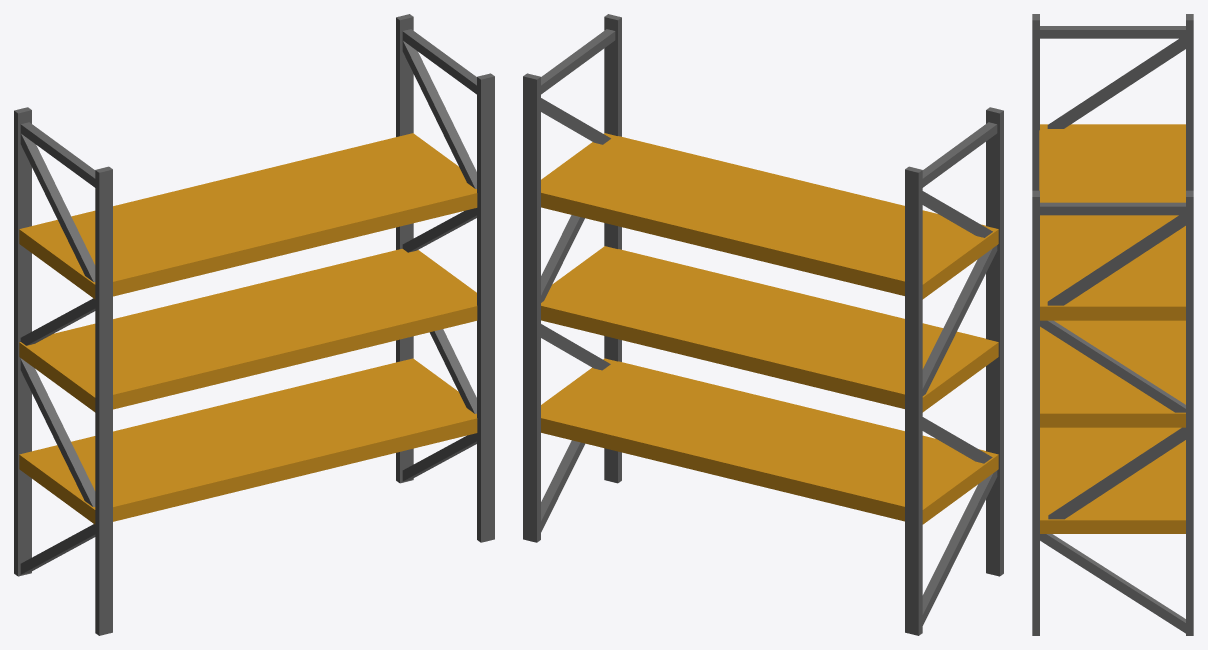
The model's file is StorageShelf_Medium.fbx.
The picture shows the model from 3 angles, left to right: view 1: azimuth 30°, elevation 25°; view 2: azimuth 150°, elevation 25°; view 3: azimuth 270°, elevation 25°; orthographic projection. The views are drawn at different scales.
Visible parts, largest first — view 1: StorageShelf_Medium; view 2: StorageShelf_Medium; view 3: StorageShelf_Medium.
Part boxes in pixels (x1,y1,x2,y2): StorageShelf_Medium: (14,14,494,635); StorageShelf_Medium: (523,14,1003,635); StorageShelf_Medium: (1032,14,1193,635).
Bounding box in the file's own units: 228 × 255 × 85.
